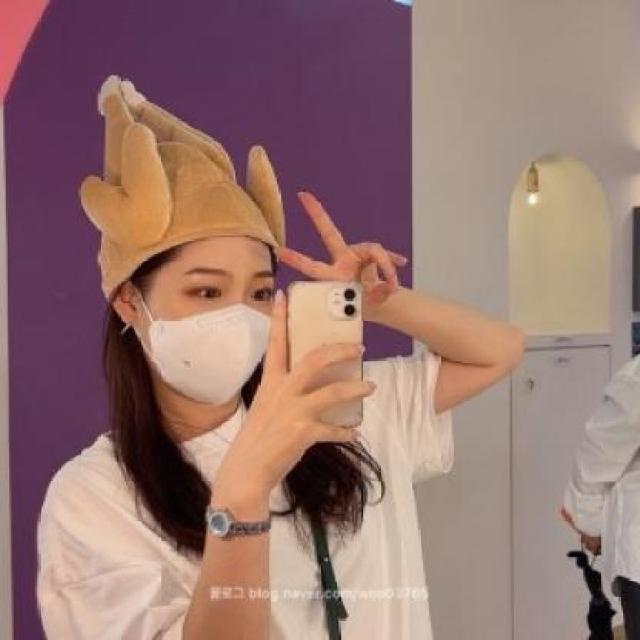hat: (82, 75, 286, 294)
